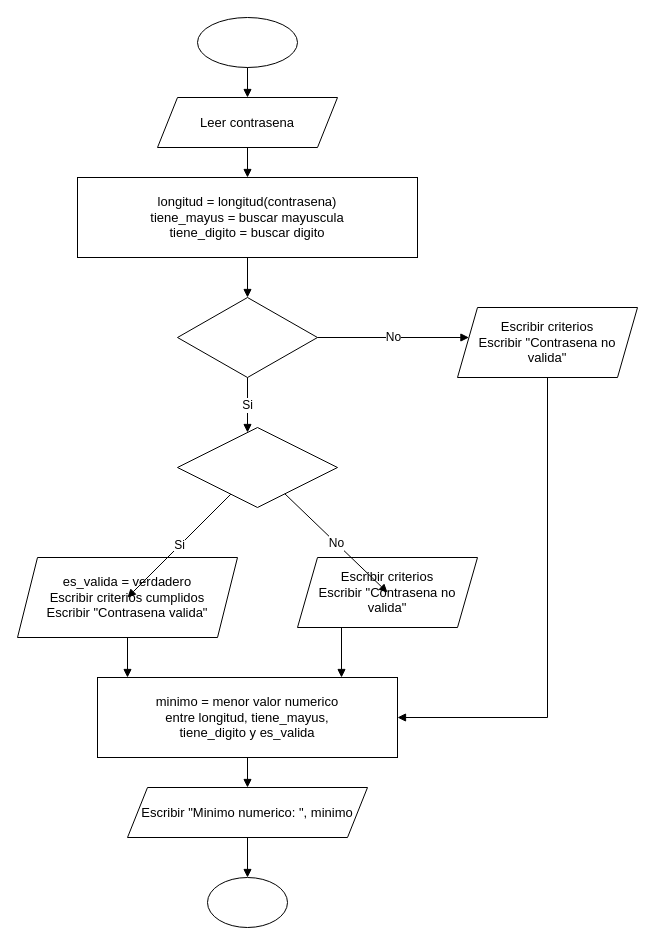
This 655x945 diagram has some shape labels left out. The shapes that lost their labels are listed below. From the top down, each one's box as (x1, y1, x2, y2) in pixels, then its label:
(196, 16, 298, 68): Inicio
(176, 296, 318, 378): longitud >= 8 y longitud <= 20
(176, 426, 338, 508): tiene_mayus == 1 y tiene_digito == 1
(206, 876, 288, 928): Fin
